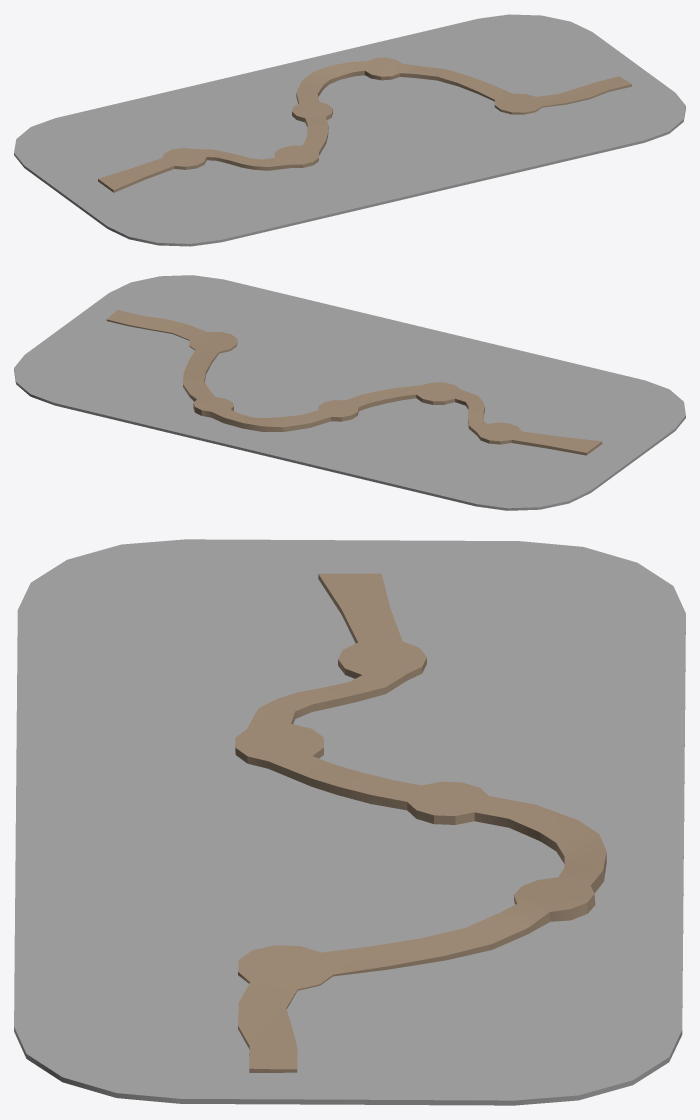
File: tablero_001.fbx
3 renders of one model, top to bottom at view 1: azimuth 30°, elevation 25°; view 2: azimuth 150°, elevation 25°; view 3: azimuth 270°, elevation 25°, orthographic. The views are drawn at different scales.
Visible parts, largest first — view 1: pCube3; view 2: pCube3; view 3: pCube3.
Part boxes in pixels (x1,y1,x2,y2): pCube3: (14, 14, 685, 246); pCube3: (14, 275, 685, 510); pCube3: (14, 539, 685, 1105).
Bounding box in the file's own units: 27.15 × 0.5157 × 13.95.
